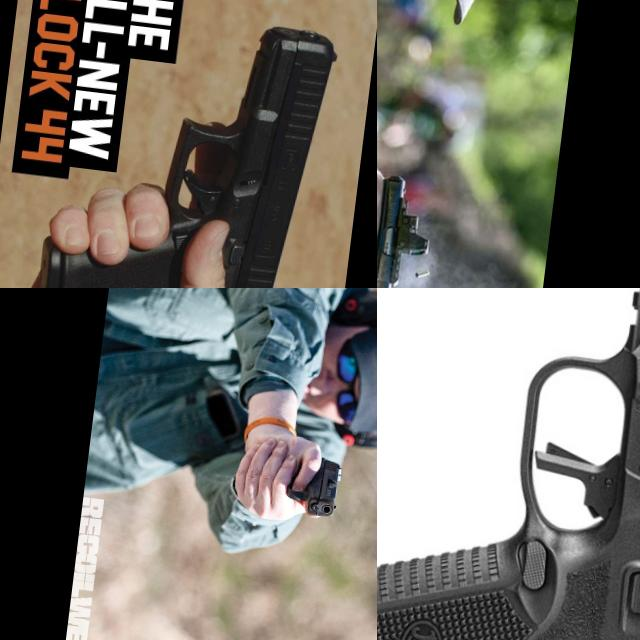handgun: (377, 288, 640, 640), (28, 0, 342, 288), (377, 164, 440, 288), (282, 451, 346, 522)
